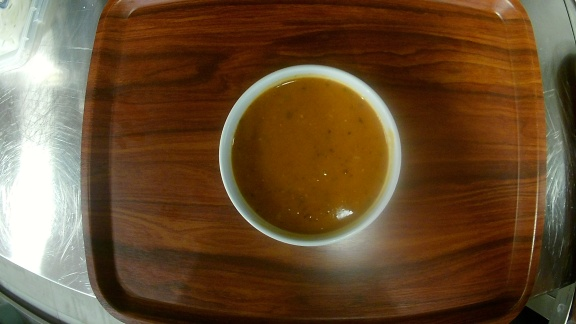ezogelin: (215, 62, 403, 247)
